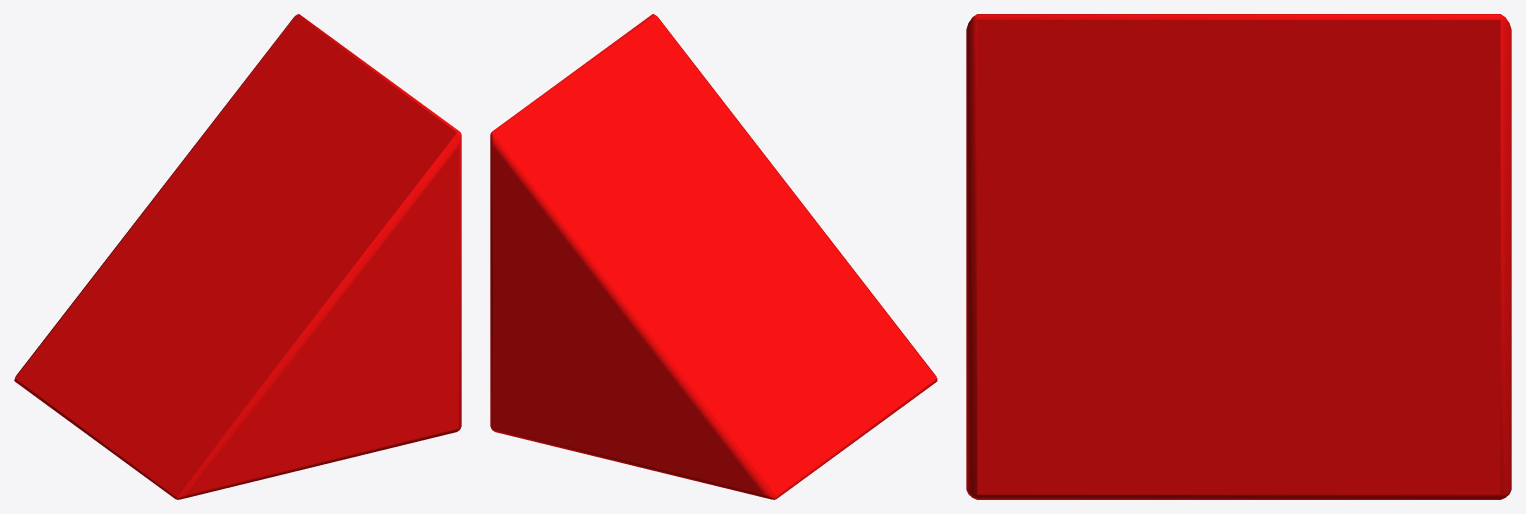
Rendered from WedgeRed.fbx.
The picture shows the model from 3 angles, left to right: view 1: azimuth 30°, elevation 25°; view 2: azimuth 150°, elevation 25°; view 3: azimuth 270°, elevation 25°; orthographic projection. The views are drawn at different scales.
Parts seen in each view (by area): view 1: Wedge; view 2: Wedge; view 3: Wedge.
Boxes of the visible parts, box(x1,y1,x2,y2) form: Wedge: box(14, 14, 461, 499); Wedge: box(490, 14, 937, 499); Wedge: box(966, 14, 1511, 499).
Bounding box in the file's own units: 1.97 × 1.97 × 2.
